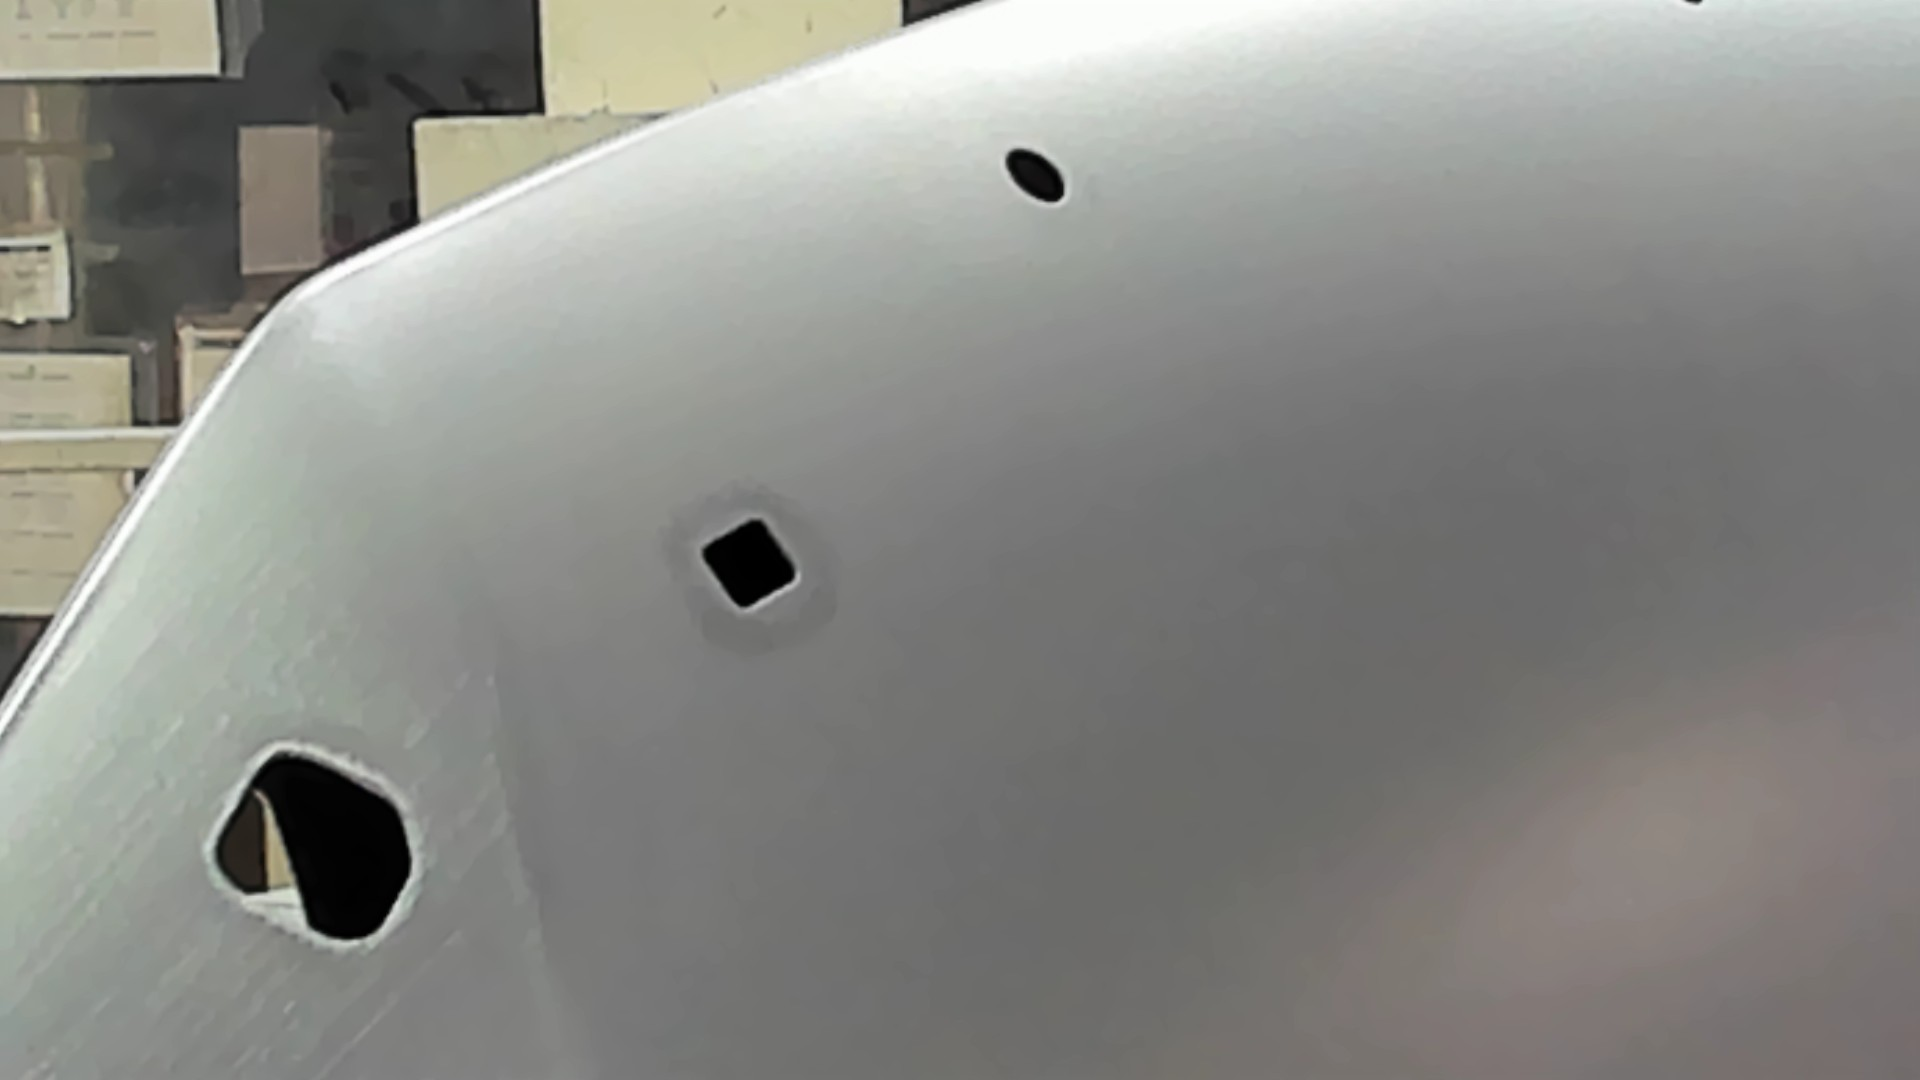capo: (807, 214, 1920, 1080)
chico: (1002, 145, 1069, 204)
grande: (200, 737, 419, 949)
mediano: (692, 514, 804, 620)
